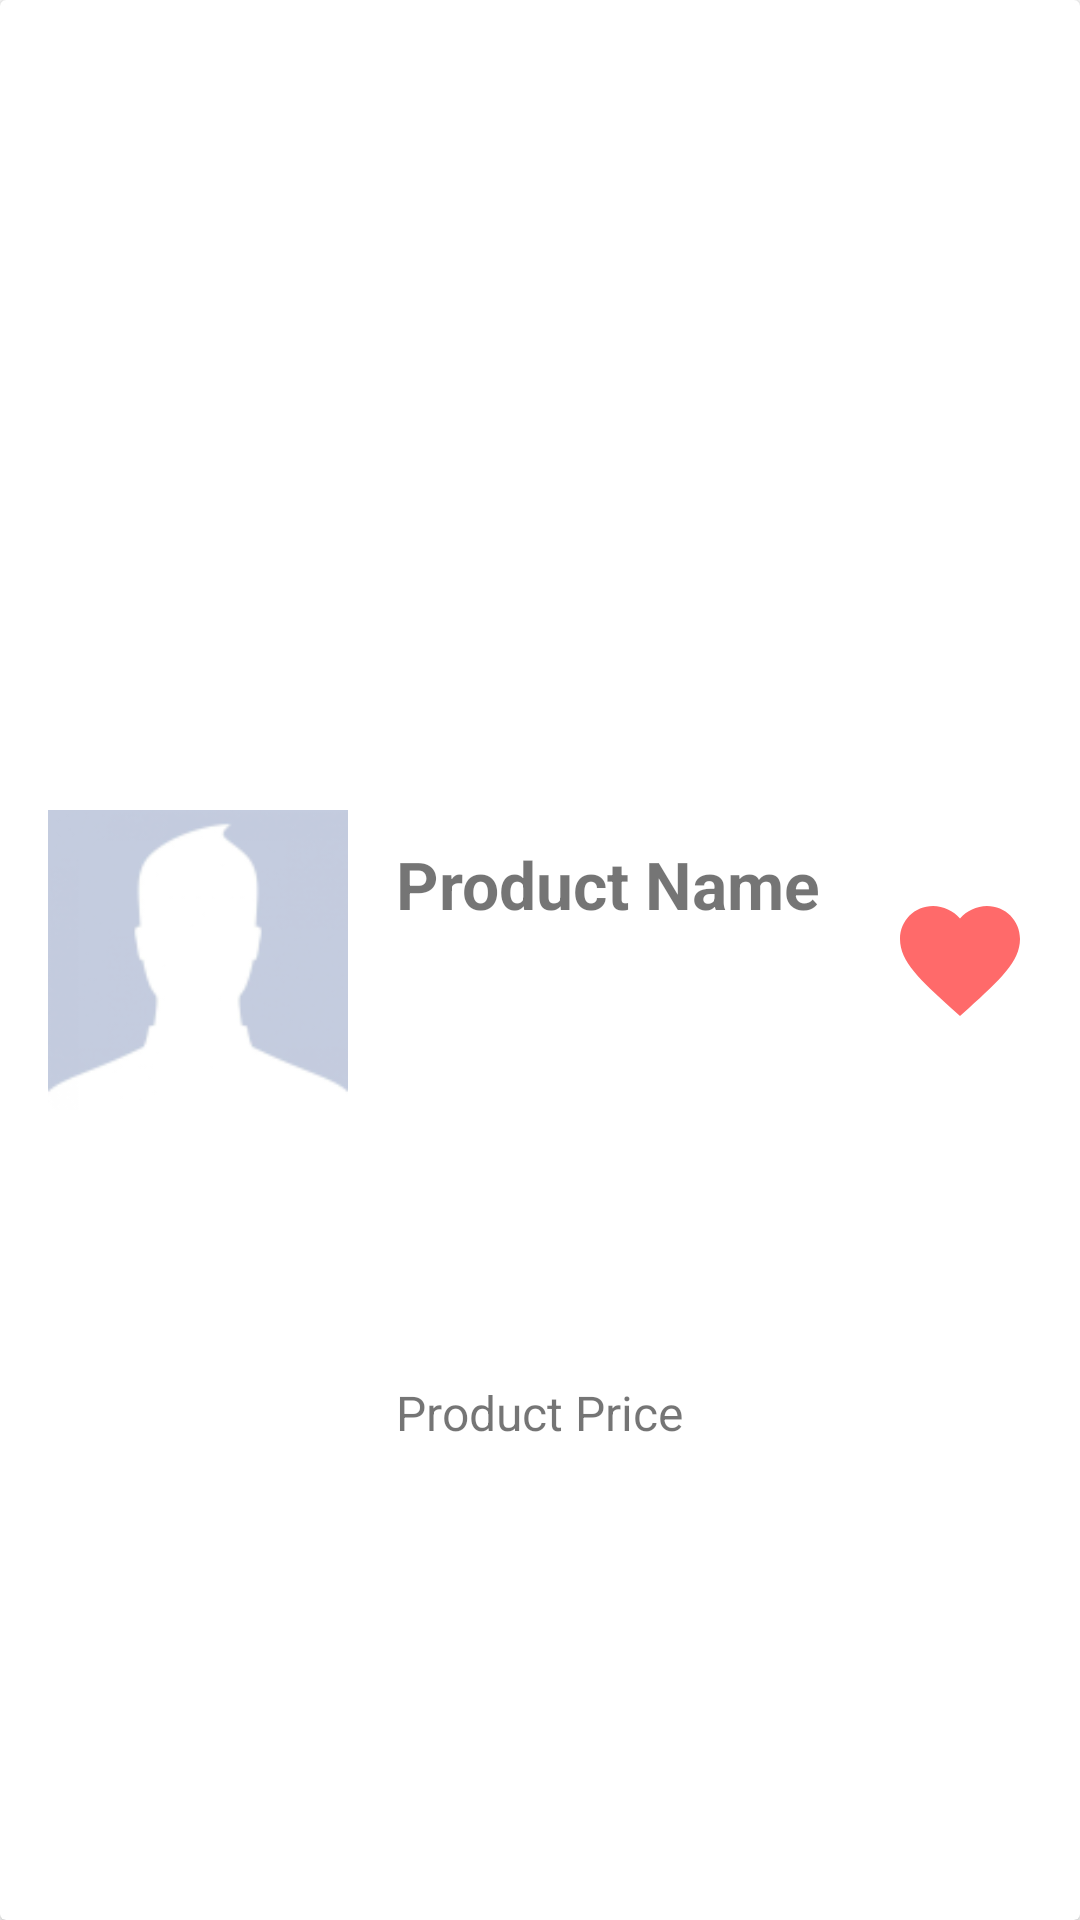

Icons on this 1080 x 1920 Android screen, each with its box as {"left": x1, "top": y1, "right": x2, "bottom": y2}:
favorite: {"left": 900, "top": 906, "right": 1020, "bottom": 1016}
